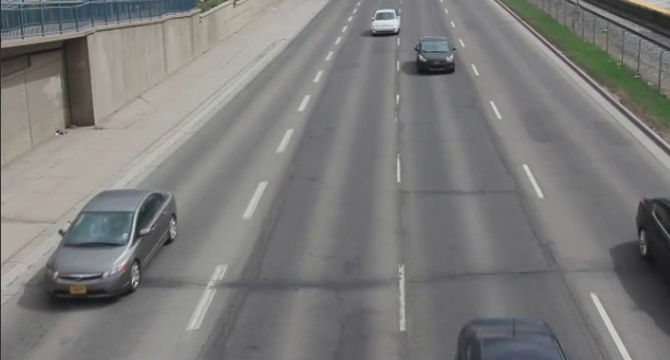car: (35, 187, 185, 309), (456, 316, 573, 360), (632, 199, 669, 293), (368, 2, 405, 40), (415, 36, 452, 74)
